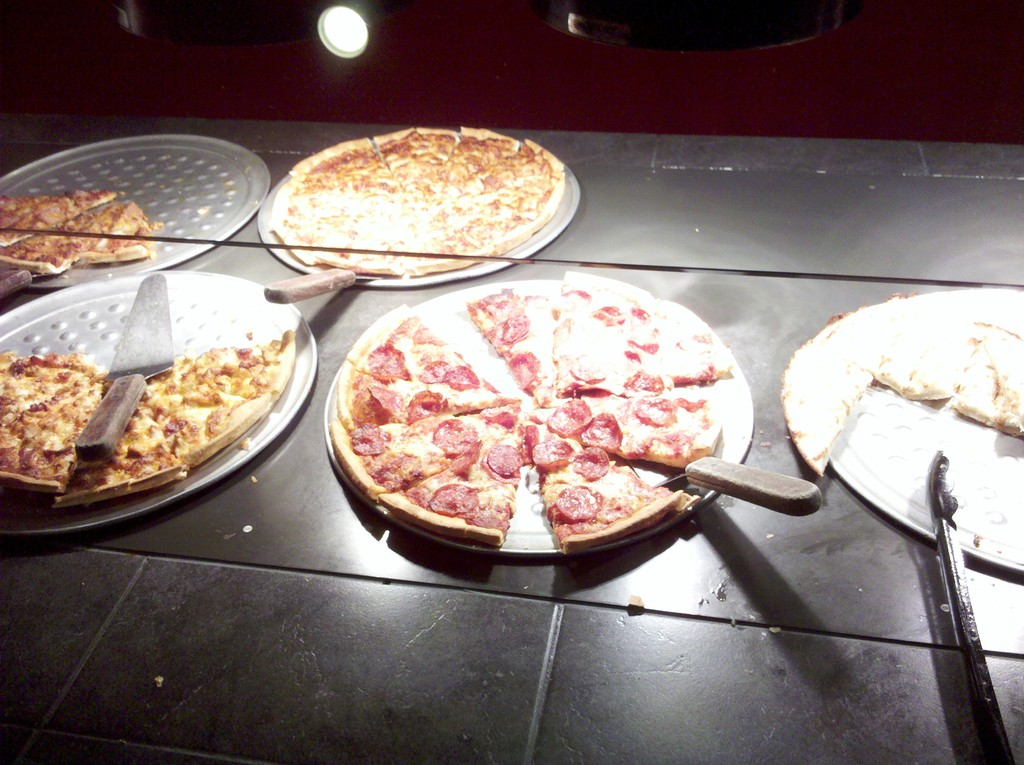Pizza: (335, 312, 750, 566), (0, 330, 293, 510), (270, 125, 567, 279), (777, 300, 1023, 474), (0, 186, 152, 270)
